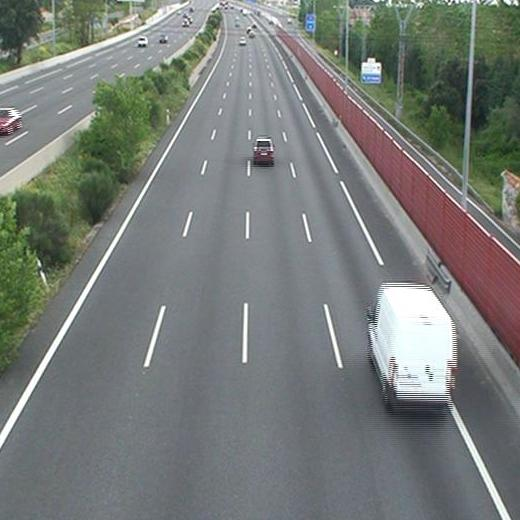car: (253, 138, 273, 161), (239, 37, 247, 46)
van: (369, 282, 457, 408)
